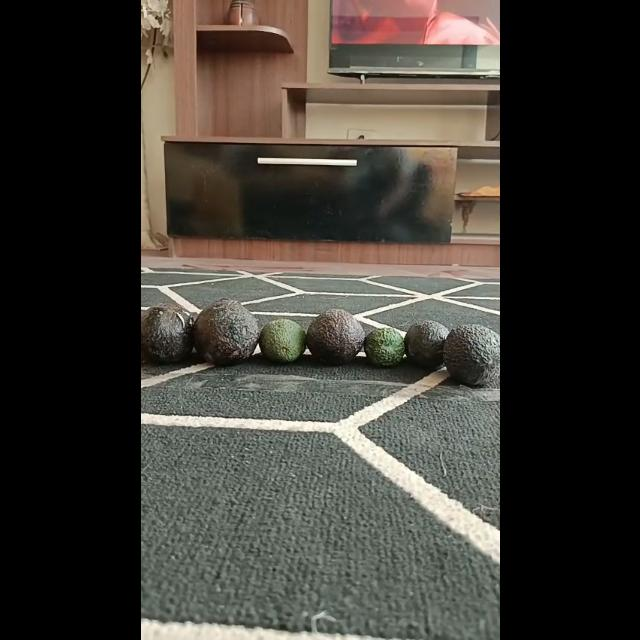Primera: (191, 299, 259, 365), (442, 324, 498, 388), (305, 308, 365, 364), (140, 302, 193, 362)
Segunda: (404, 320, 448, 368), (257, 319, 305, 363)
Tercera: (363, 327, 405, 367)
